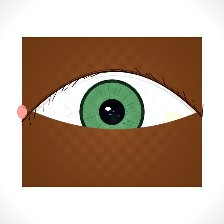pinguecula_lesion: (155, 103, 191, 131)
